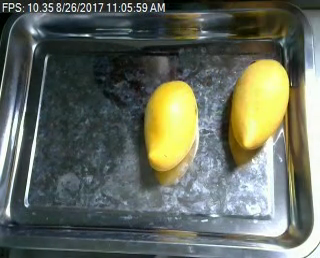Mango: (229, 55, 292, 151), (143, 74, 201, 164)
